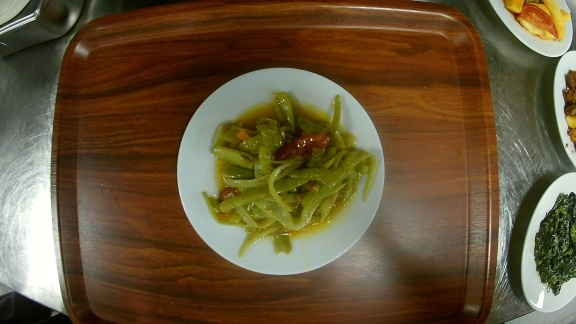tazefasulye: (176, 66, 386, 277)
